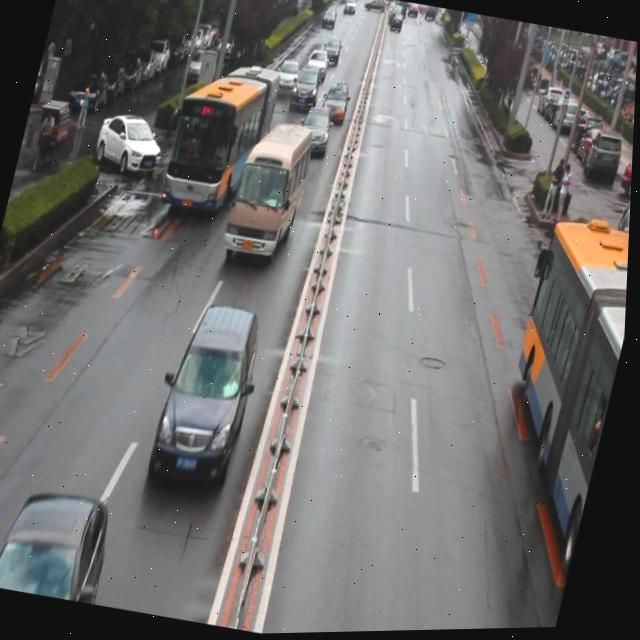car: (148, 298, 270, 499), (0, 484, 119, 606), (91, 109, 174, 185), (182, 95, 229, 156), (295, 106, 337, 161), (288, 62, 326, 114), (318, 80, 352, 127), (272, 60, 304, 102)
truck: (225, 120, 317, 264)
van: (465, 223, 632, 604), (157, 52, 284, 227)
